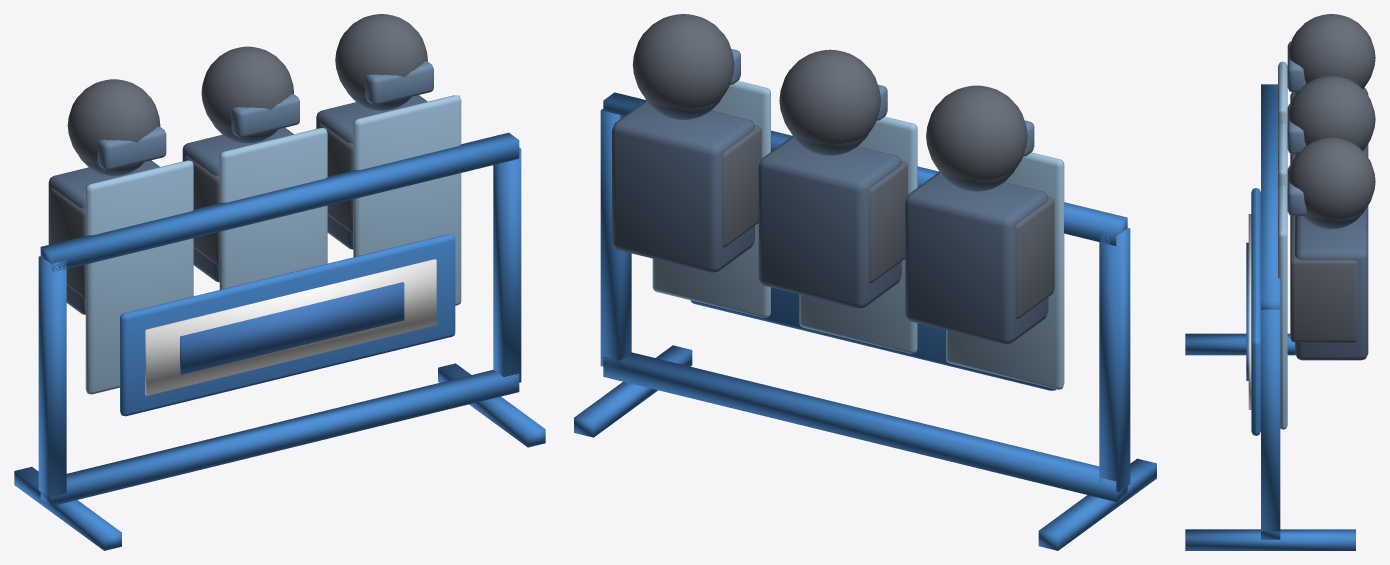
File: police_barricade.glb
3 views of the same model, side by side, from view 1: azimuth 30°, elevation 25°; view 2: azimuth 150°, elevation 25°; view 3: azimuth 270°, elevation 25° (orthographic). The views are drawn at different scales.
Visible parts, largest first — view 1: PolicePlate, Shield_-0.6, TopBar, BotBar, Shield_0.6, Shield_0.0, PoliceWhitePlate, PoliceTextBar, LeftPost, RightPost, CopHelmet_0.0, CopHelmet_0.6 (+12 smaller); view 2: CopTorso_0.0, CopTorso_-0.6, CopTorso_0.6, BotBar, Shield_-0.6, LeftPost, CopHelmet_0.6, CopHelmet_-0.6, CopHelmet_0.0, Shield_0.0, Shield_0.6, RightPost (+7 smaller); view 3: CopVest_0.6, CopHelmet_0.6, CopTorso_0.6, CopHelmet_-0.6, CopHelmet_0.0, RightPost, TopBar, Foot_0.95, PolicePlate, Shield_0.6, Foot_-0.95, PoliceWhitePlate (+7 smaller).
Part boxes in pixels (box(x1,y1,x2,y2)): PolicePlate: box(120, 234, 455, 416); Shield_-0.6: box(85, 160, 193, 394); TopBar: box(40, 132, 519, 271); BotBar: box(40, 370, 519, 506); Shield_0.6: box(353, 95, 461, 305); Shield_0.0: box(219, 127, 327, 289); PoliceWhitePlate: box(145, 259, 436, 395); PoliceTextBar: box(180, 282, 404, 374); LeftPost: box(38, 256, 66, 497); RightPost: box(493, 147, 521, 384); CopHelmet_0.0: box(201, 46, 293, 131); CopHelmet_0.6: box(335, 14, 427, 98); CopTorso_0.0: box(758, 136, 901, 308); CopTorso_-0.6: box(905, 172, 1048, 344); CopTorso_0.6: box(612, 100, 754, 272); BotBar: box(603, 352, 1127, 501); Shield_-0.6: box(946, 152, 1064, 389); LeftPost: box(1099, 228, 1130, 492); CopHelmet_0.6: box(632, 14, 734, 108); CopHelmet_-0.6: box(926, 85, 1027, 180); CopHelmet_0.0: box(779, 49, 880, 144); Shield_0.0: box(799, 116, 917, 353); Shield_0.6: box(652, 81, 770, 317); RightPost: box(600, 109, 631, 370); CopVest_0.6: box(1290, 216, 1357, 342); CopHelmet_0.6: box(1288, 137, 1375, 219); CopTorso_0.6: box(1295, 211, 1368, 360); CopHelmet_-0.6: box(1288, 14, 1375, 88); CopHelmet_0.0: box(1288, 76, 1375, 150); RightPost: box(1261, 309, 1280, 531); TopBar: box(1261, 84, 1280, 309); Foot_0.95: box(1185, 529, 1355, 550); PolicePlate: box(1251, 188, 1260, 435); Shield_0.6: box(1278, 185, 1287, 429); Foot_-0.95: box(1185, 333, 1295, 355); PoliceWhitePlate: box(1248, 214, 1251, 409).
Size of the model in its own units: 2.12 by 1.67 by 0.78.
